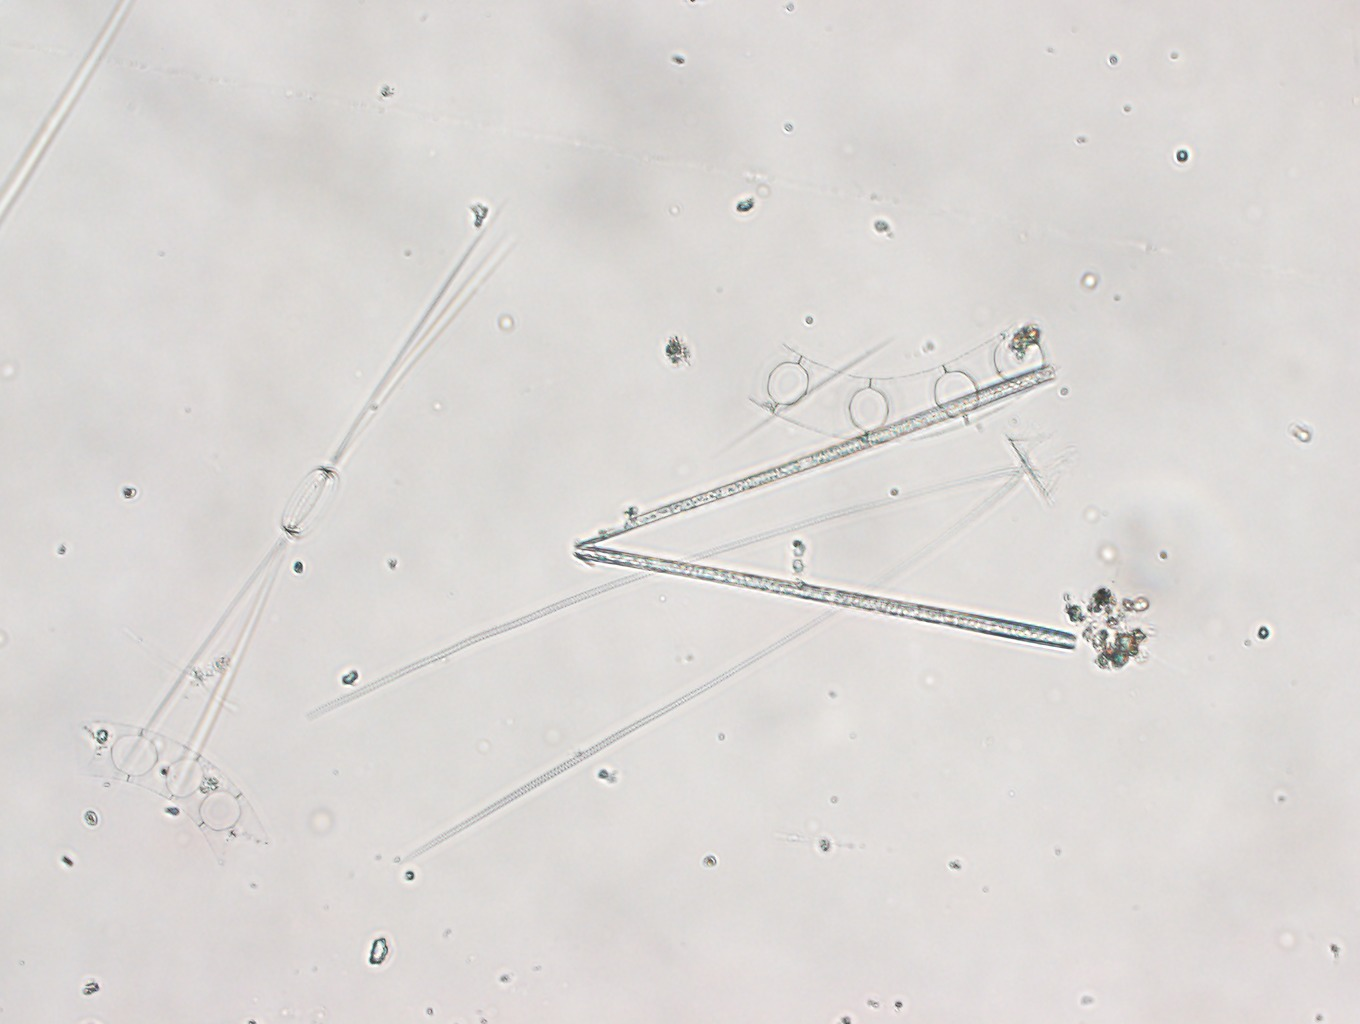chaetoceros: (110, 202, 524, 805)
eucampia: (739, 311, 1064, 447), (70, 709, 276, 874)
thalassionema frauenfeldii: (566, 359, 1090, 658)
